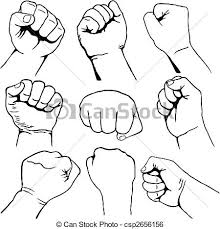fist: (23, 152, 76, 200), (12, 7, 57, 63), (76, 6, 128, 54), (5, 83, 62, 126), (83, 98, 142, 133), (158, 83, 201, 130), (142, 6, 191, 47), (144, 159, 186, 205), (88, 150, 140, 187)
